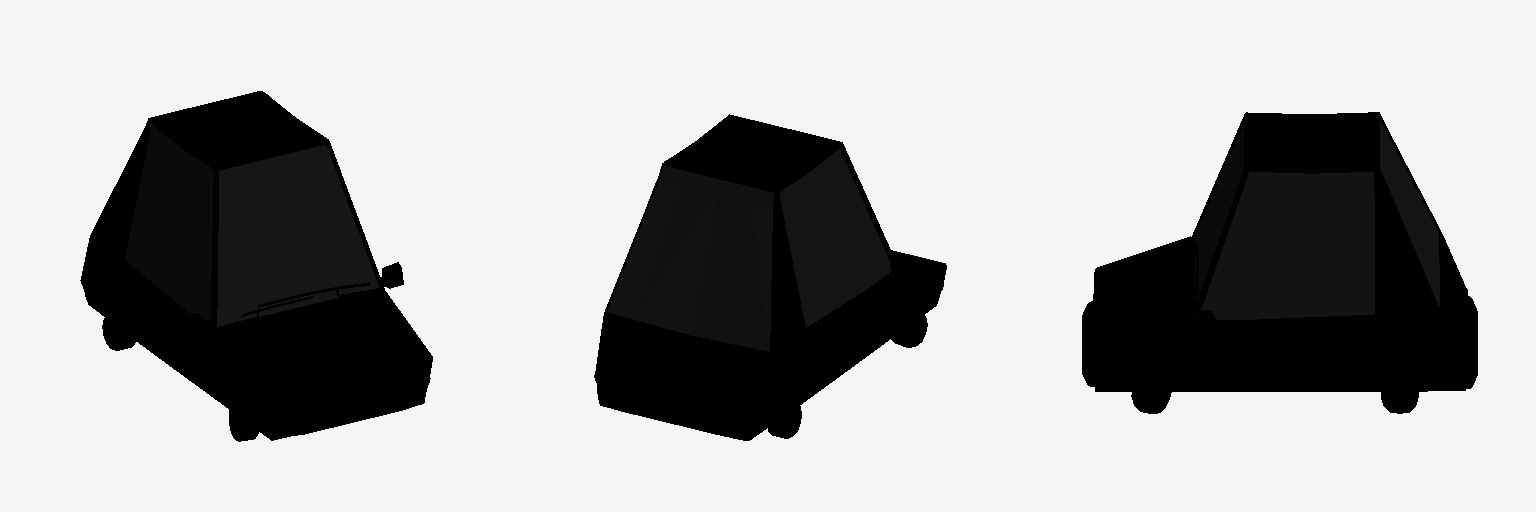
Rendered from hatchback.obj.
3 renders of one model, left to right at view 1: azimuth 30°, elevation 25°; view 2: azimuth 150°, elevation 25°; view 3: azimuth 270°, elevation 25°, orthographic.
Parts seen in each view (by area): view 1: front_pivot MM_woofer_car main3, windows front_pivot MM_woofer_car; view 2: front_pivot MM_woofer_car main3, windows front_pivot MM_woofer_car; view 3: front_pivot MM_woofer_car main3, windows front_pivot MM_woofer_car.
Part boxes in pixels (bbox=[...]): front_pivot MM_woofer_car main3: bbox=[80, 91, 432, 441]; windows front_pivot MM_woofer_car: bbox=[125, 125, 378, 326]; front_pivot MM_woofer_car main3: bbox=[594, 114, 946, 440]; windows front_pivot MM_woofer_car: bbox=[607, 148, 890, 351]; front_pivot MM_woofer_car main3: bbox=[1082, 112, 1477, 413]; windows front_pivot MM_woofer_car: bbox=[1195, 120, 1439, 319].
Bounding box in the file's own units: 11.81 × 11.83 × 18.37.